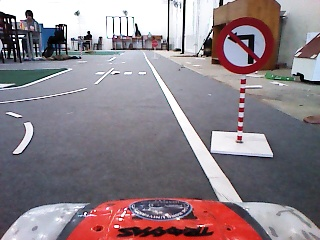ban: (215, 15, 273, 77)
